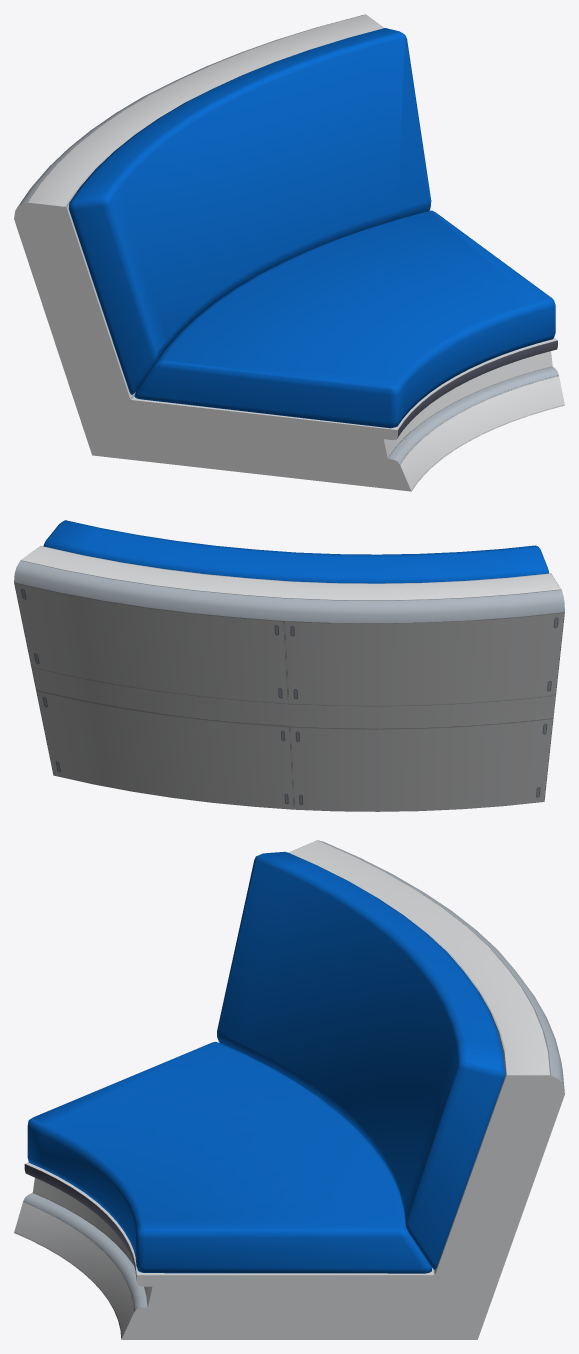
The model's file is Sofa_Angle_03.FBX.
3 views of the same model, one above another, from view 1: azimuth 30°, elevation 25°; view 2: azimuth 150°, elevation 25°; view 3: azimuth 270°, elevation 25° (orthographic). The views are drawn at different scales.
Parts seen in each view (by area): view 1: Sofa_Angle_03; view 2: Sofa_Angle_03; view 3: Sofa_Angle_03.
Boxes of the visible parts, <box> form: Sofa_Angle_03: <box>14,14,564,491</box>; Sofa_Angle_03: <box>14,520,564,811</box>; Sofa_Angle_03: <box>14,840,564,1339</box>.
Size of the model in its own units: 1.99 by 1.07 by 1.93.
